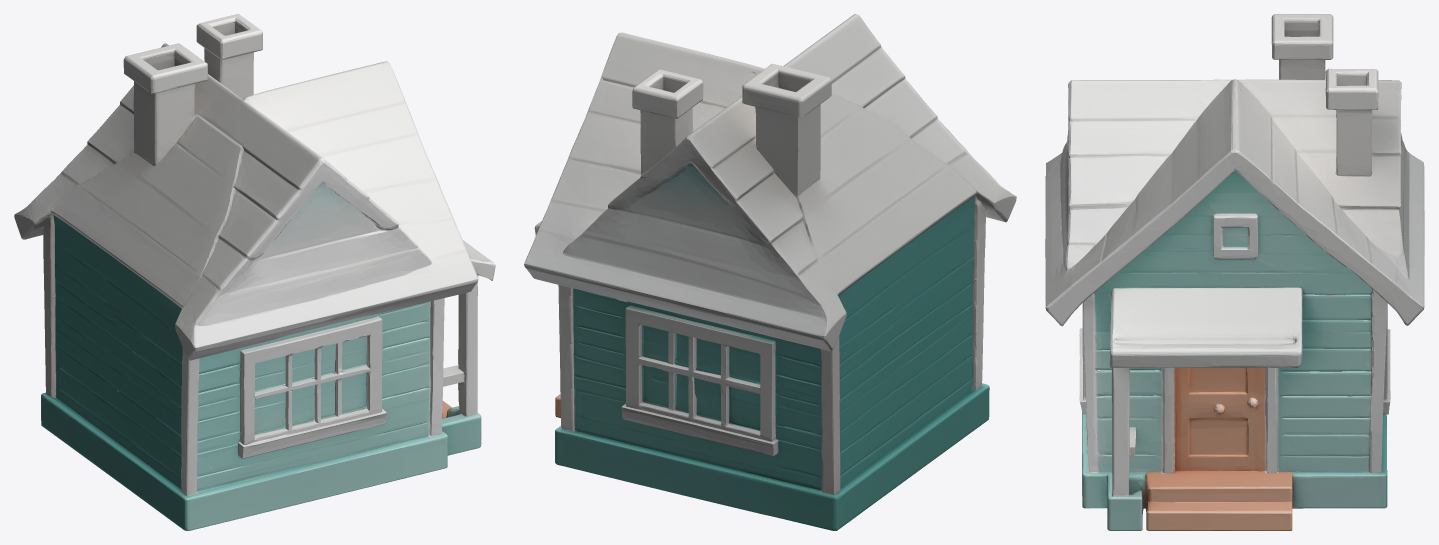
The model's file is house.glb.
3 views of the same model, side by side, from view 1: azimuth 30°, elevation 25°; view 2: azimuth 150°, elevation 25°; view 3: azimuth 270°, elevation 25° (orthographic). The views are drawn at different scales.
Parts seen in each view (by area): view 1: world; view 2: world; view 3: world.
Part boxes in pixels (x1,y1,x2,y2): world: (14,14,495,530); world: (524,14,1016,530); world: (1045,14,1424,530).
Size of the model in its own units: 0.9314 by 1 by 0.8794.
1 material, 1 textured.
